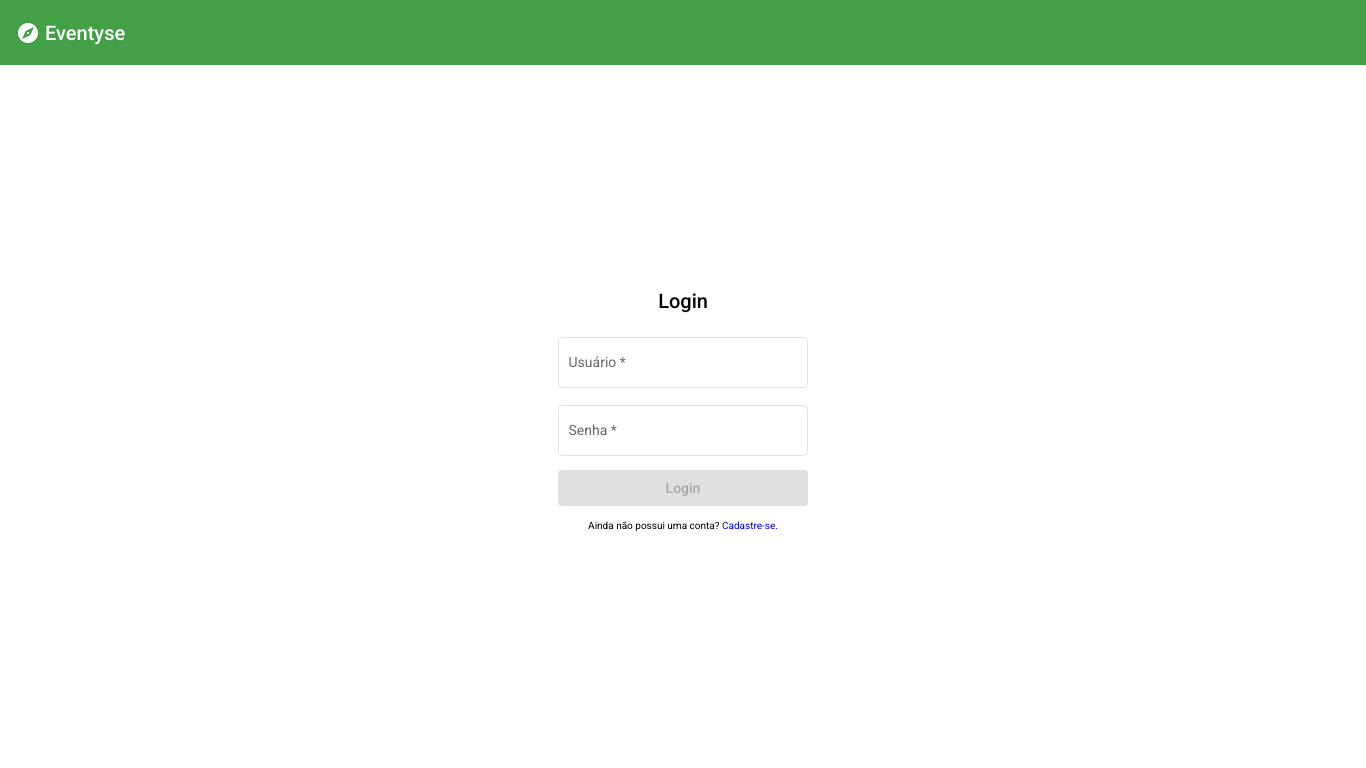
Test case: EVENTYSE TESTS › should not allow login without form
Expected: the button with id "login-action" is disabled, x1=558 y1=470 x2=808 y2=506
Type "username0001_test" into the field with id "login-mail".
click(684, 366); type("username0001_test")  # box x1=569 y1=358 x2=798 y2=374
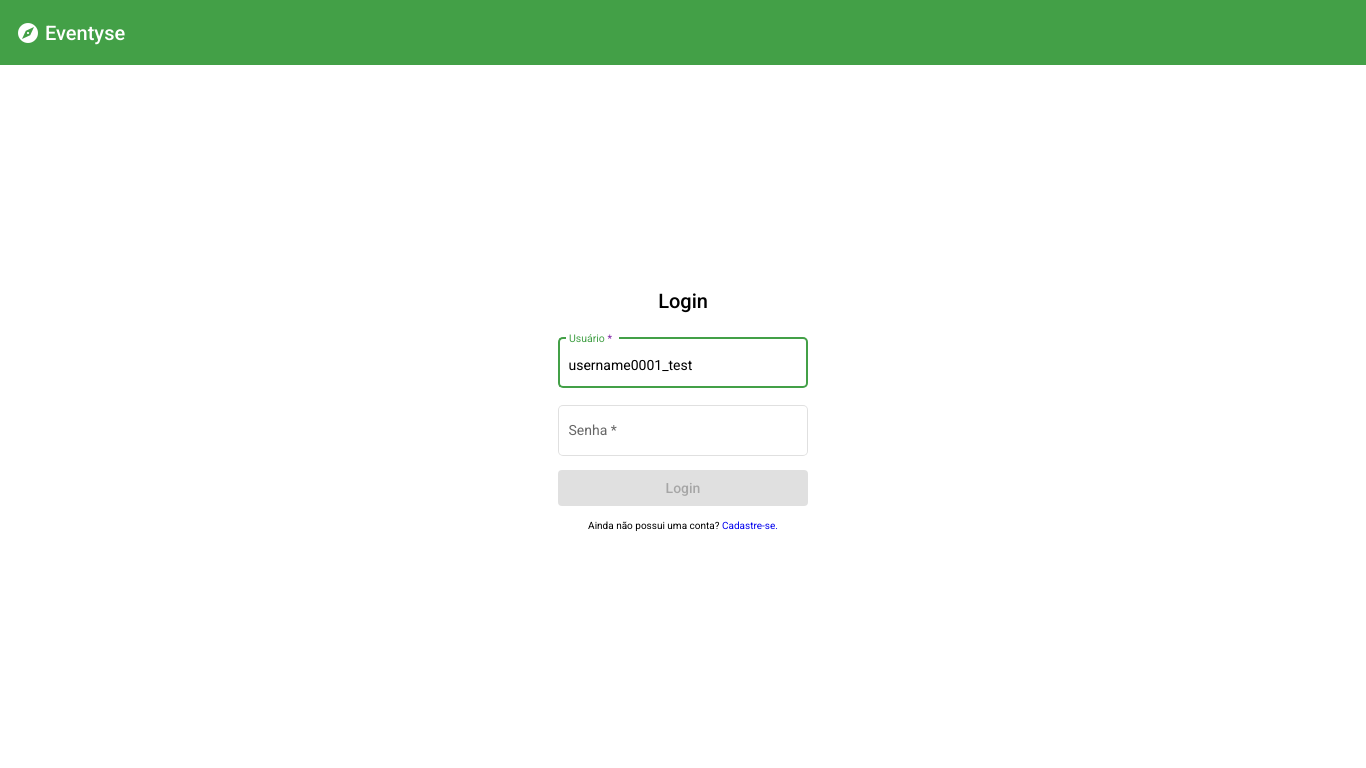
Type "username0001_test" into the password field with id "login-password".
click(684, 435); type("username0001_test")  # box x1=569 y1=427 x2=798 y2=443
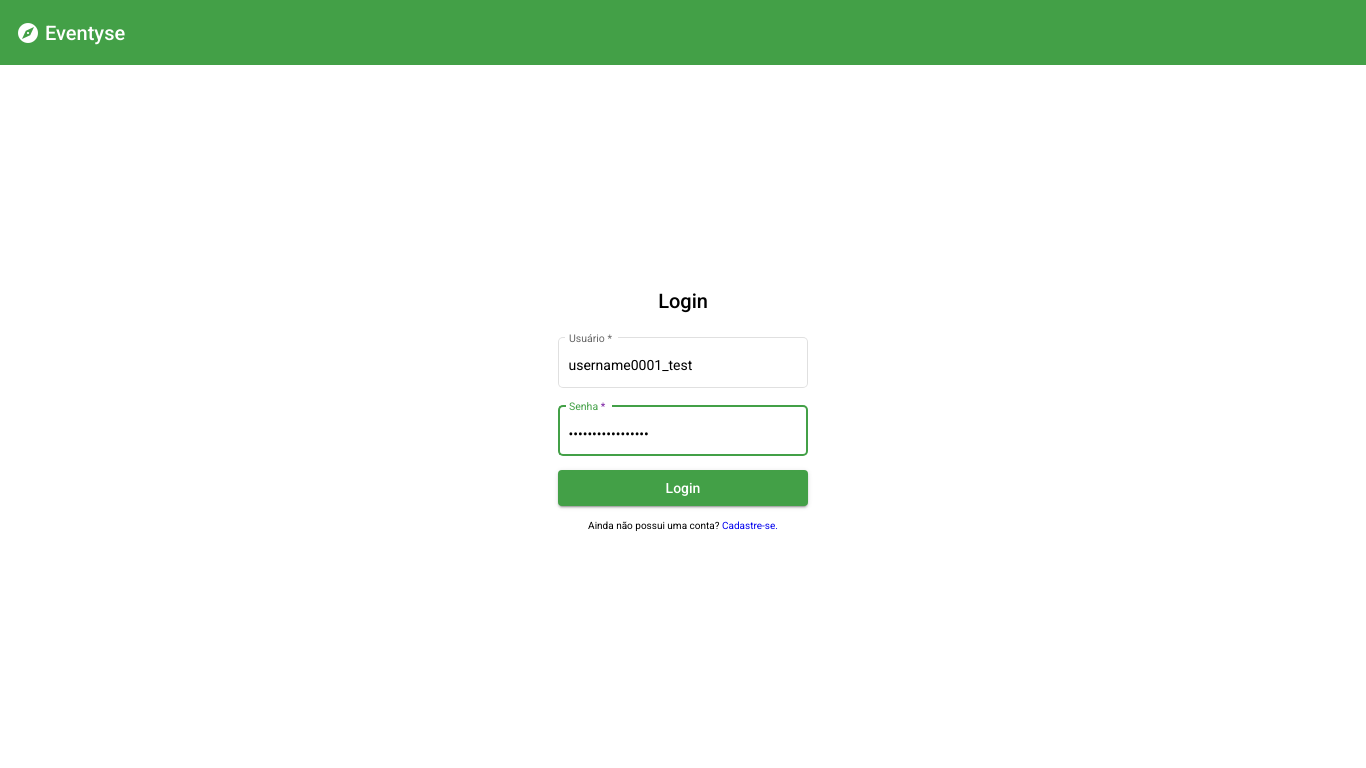
Now the button with id "login-action" is enabled, box x1=558 y1=470 x2=808 y2=506
